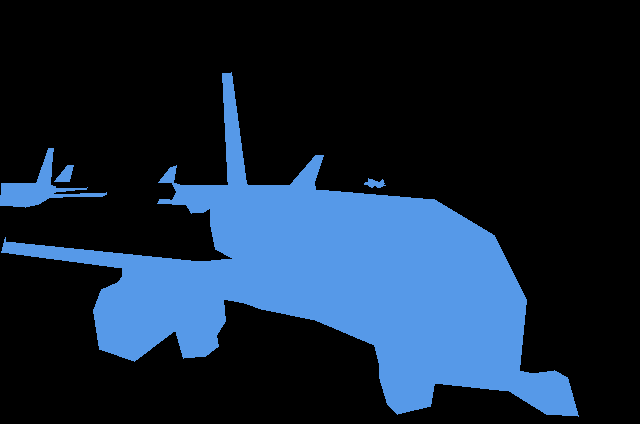Airplane: (1, 72, 578, 416), (0, 148, 106, 208), (157, 165, 285, 213), (54, 165, 73, 182), (364, 178, 385, 188)
